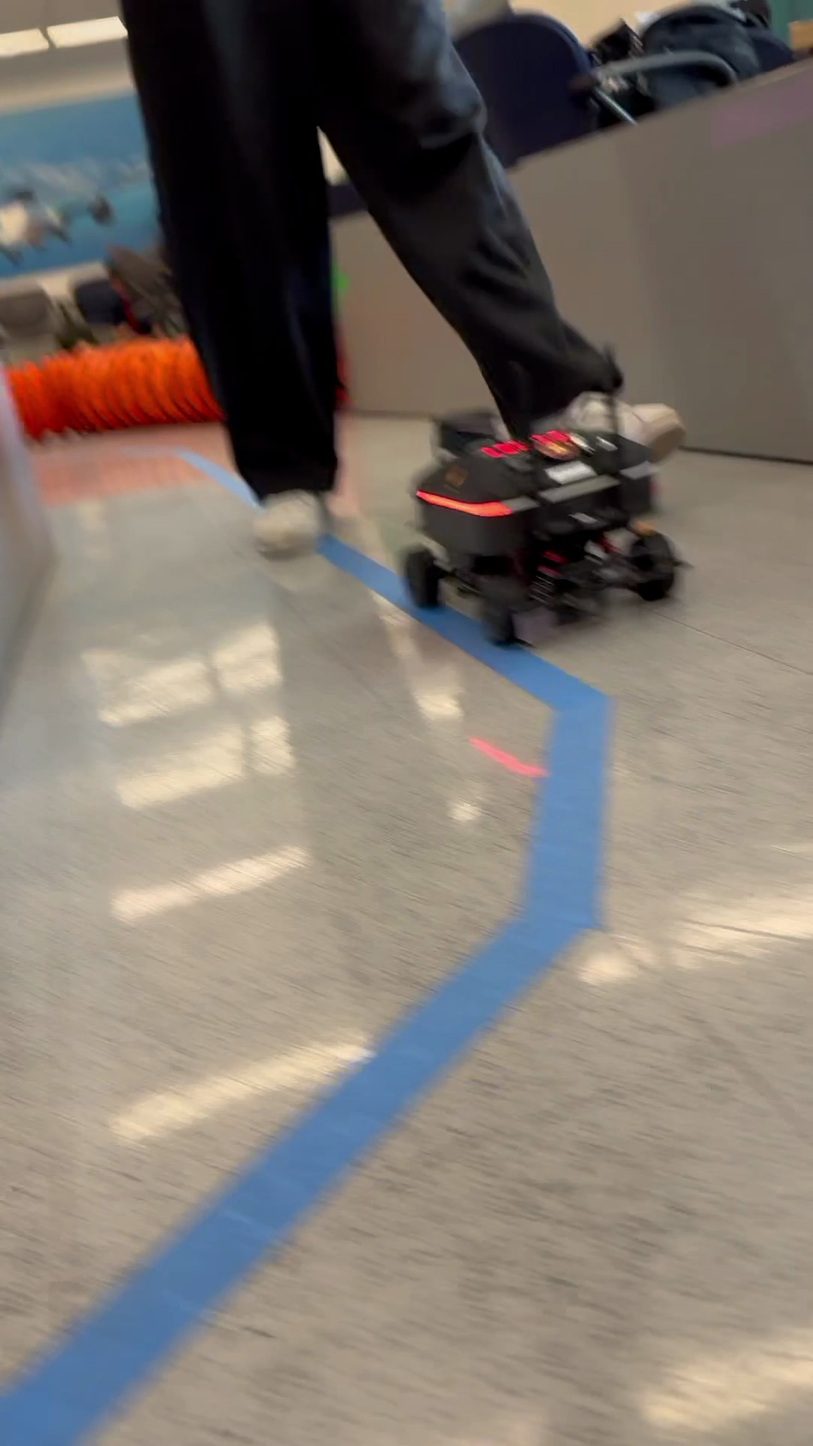racecar: (401, 409, 685, 646), (567, 37, 657, 130)
